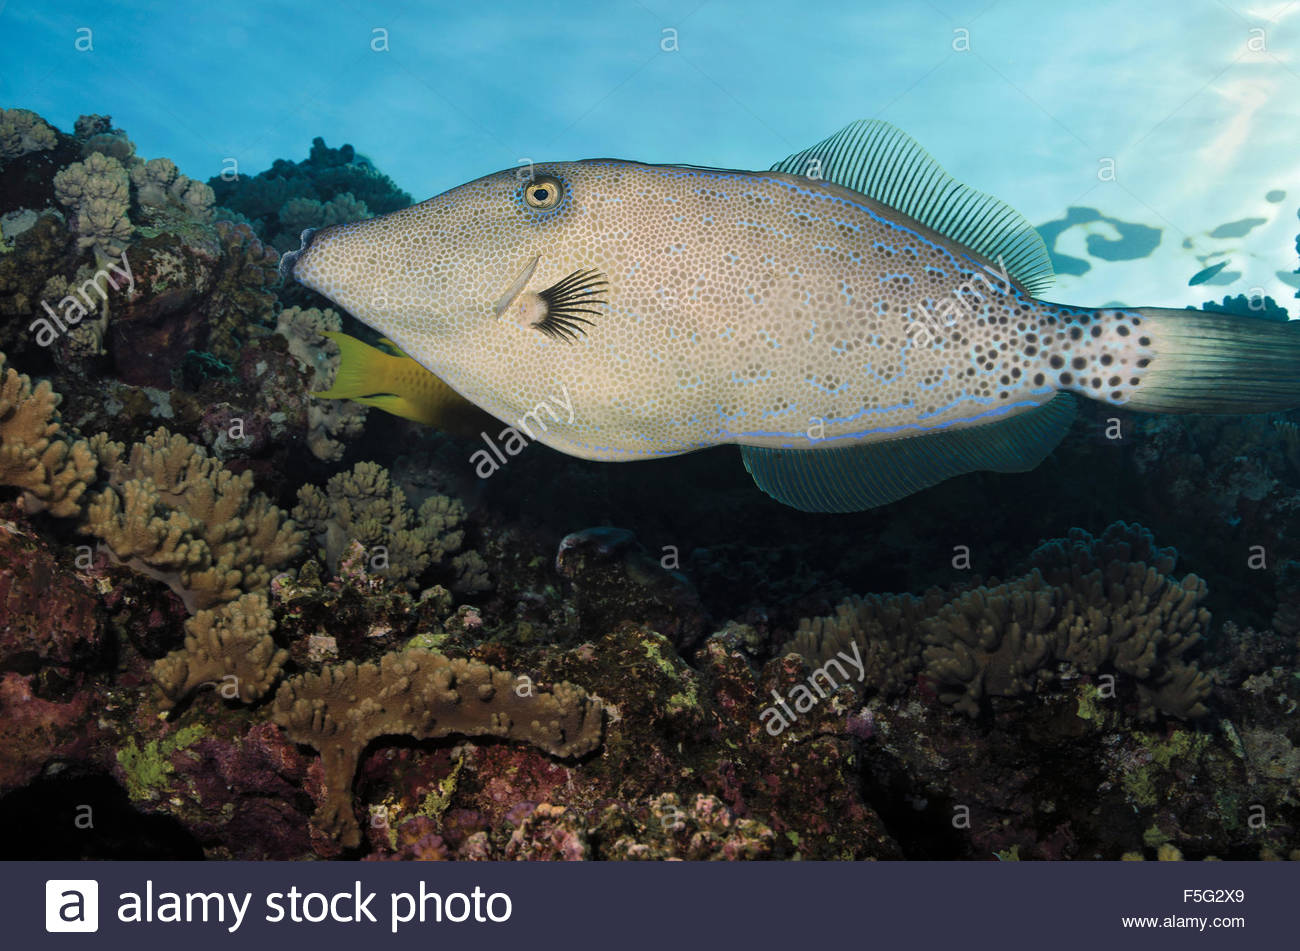Aluterus_scriptus: (286, 115, 1300, 534)
